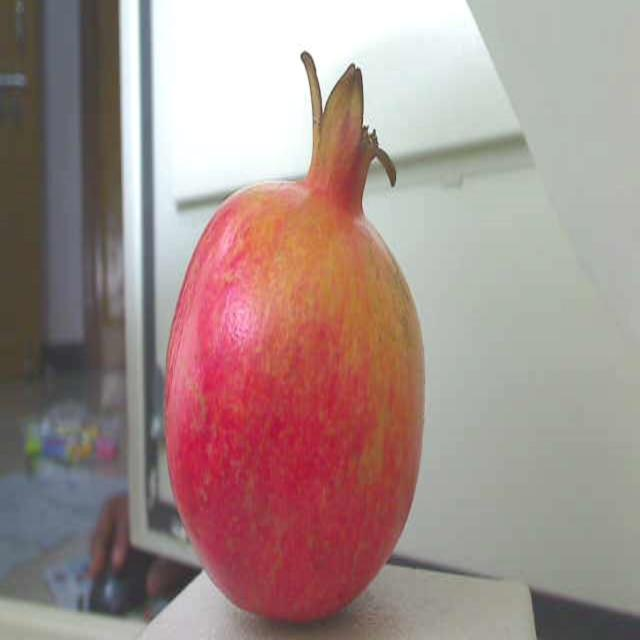pomegranate: (157, 42, 446, 640)
